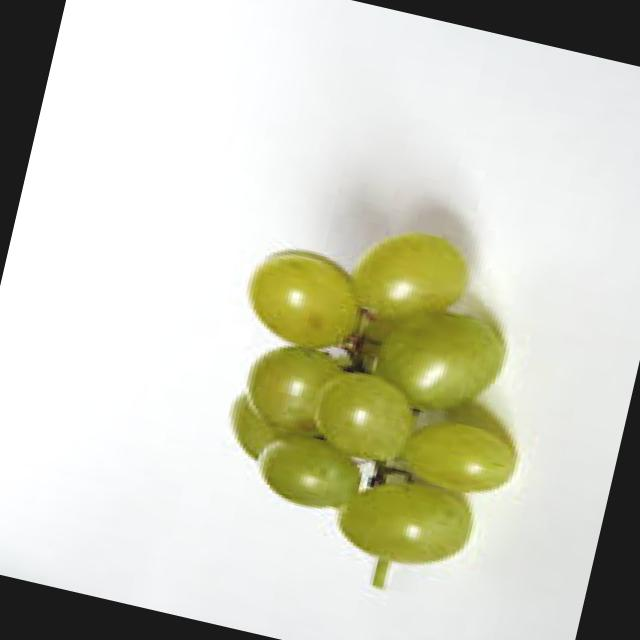organic: (208, 190, 549, 560)
